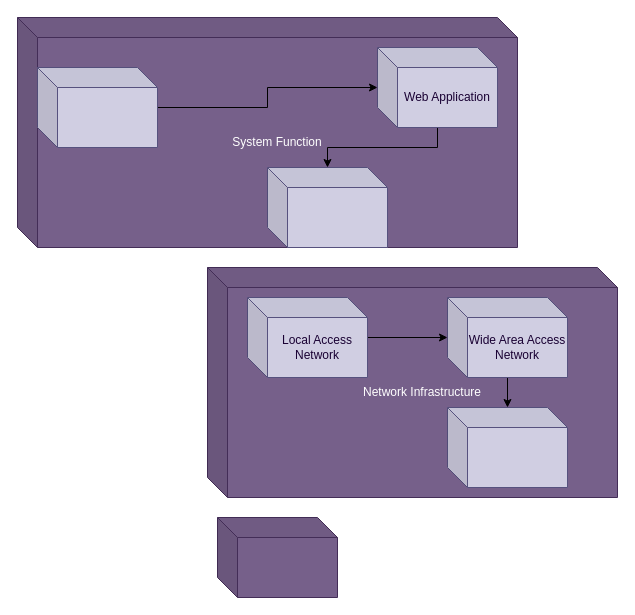
Some shapes in this 635 by 615 pixel diagram are drawn without their labels. Here are the shapes that lost their labels. From the top down, the box of each, then its label:
(36, 66, 158, 148): Database
(266, 166, 388, 248): Desktop Application
(446, 406, 568, 488): Private Cloud
